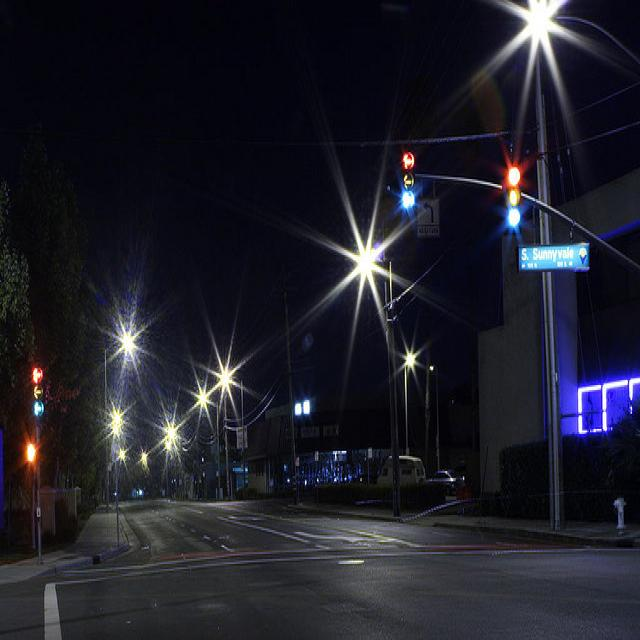Vehicle: (379, 454, 426, 488), (378, 456, 426, 486), (426, 470, 465, 494)
